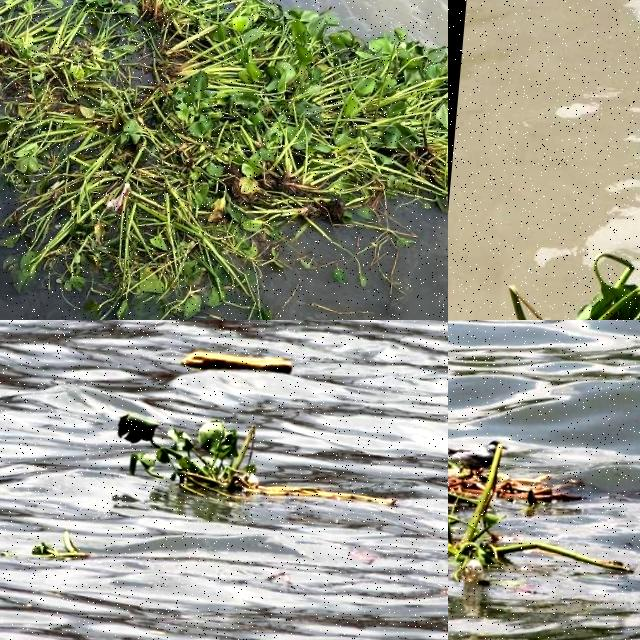water-hyacinth: (1, 1, 449, 321), (449, 427, 640, 588), (110, 413, 278, 511), (461, 248, 640, 321), (15, 524, 92, 569), (156, 1, 209, 22), (1, 321, 33, 353)
